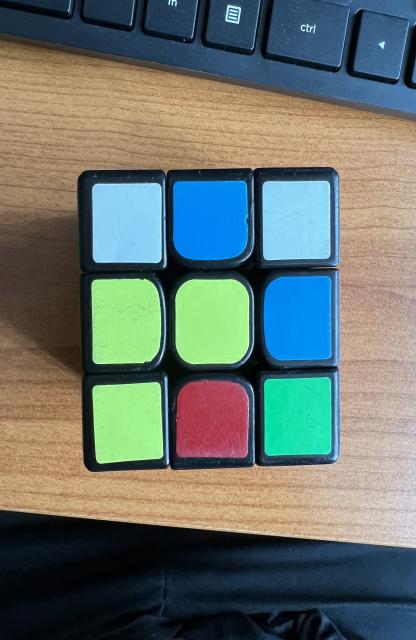Blue: (173, 180, 248, 260), (263, 276, 332, 361)
Green: (264, 378, 332, 456)
Red: (177, 380, 249, 458)
White: (92, 182, 161, 262), (262, 181, 330, 260)
Yellow: (176, 279, 249, 364), (91, 279, 161, 364), (92, 382, 164, 464)
